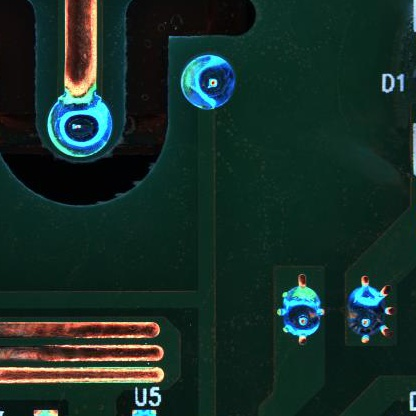spot: (47, 92, 114, 160), (276, 274, 325, 347), (179, 53, 239, 112), (347, 273, 395, 346)
